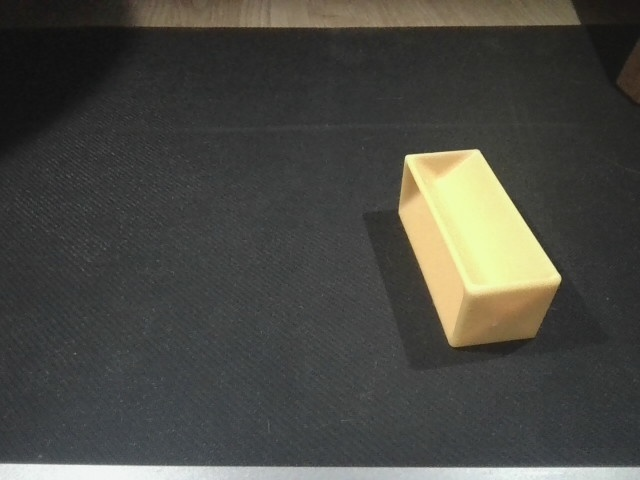YellowSample: (393, 139, 564, 359)
